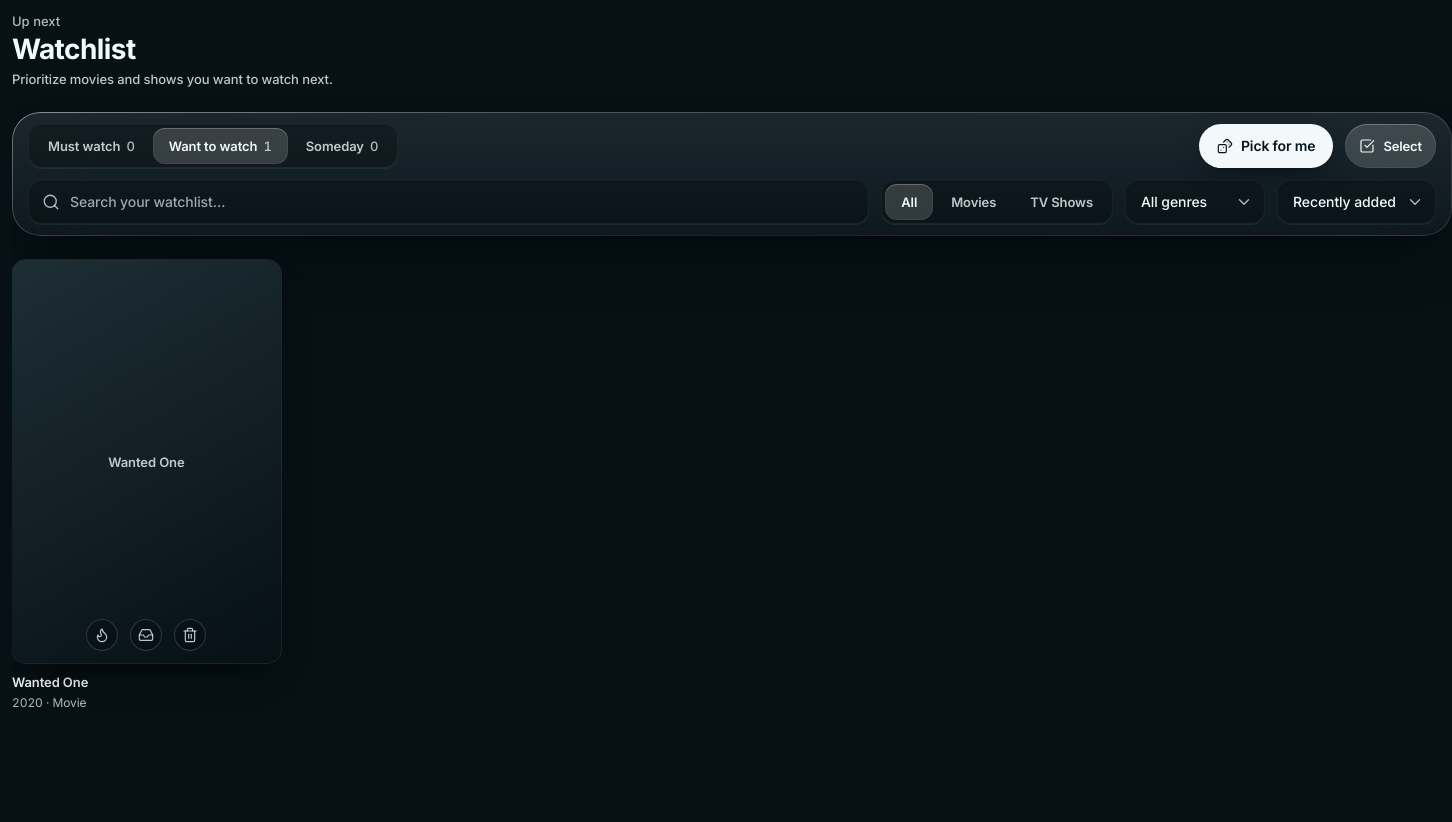
Test: watchlist grouped load (F-32) › keeps the compact per-bucket empty state when another bucket has rows
Click the radio button labelled "Must watch 0". click: [91, 146]
box: [32,128,151,164]
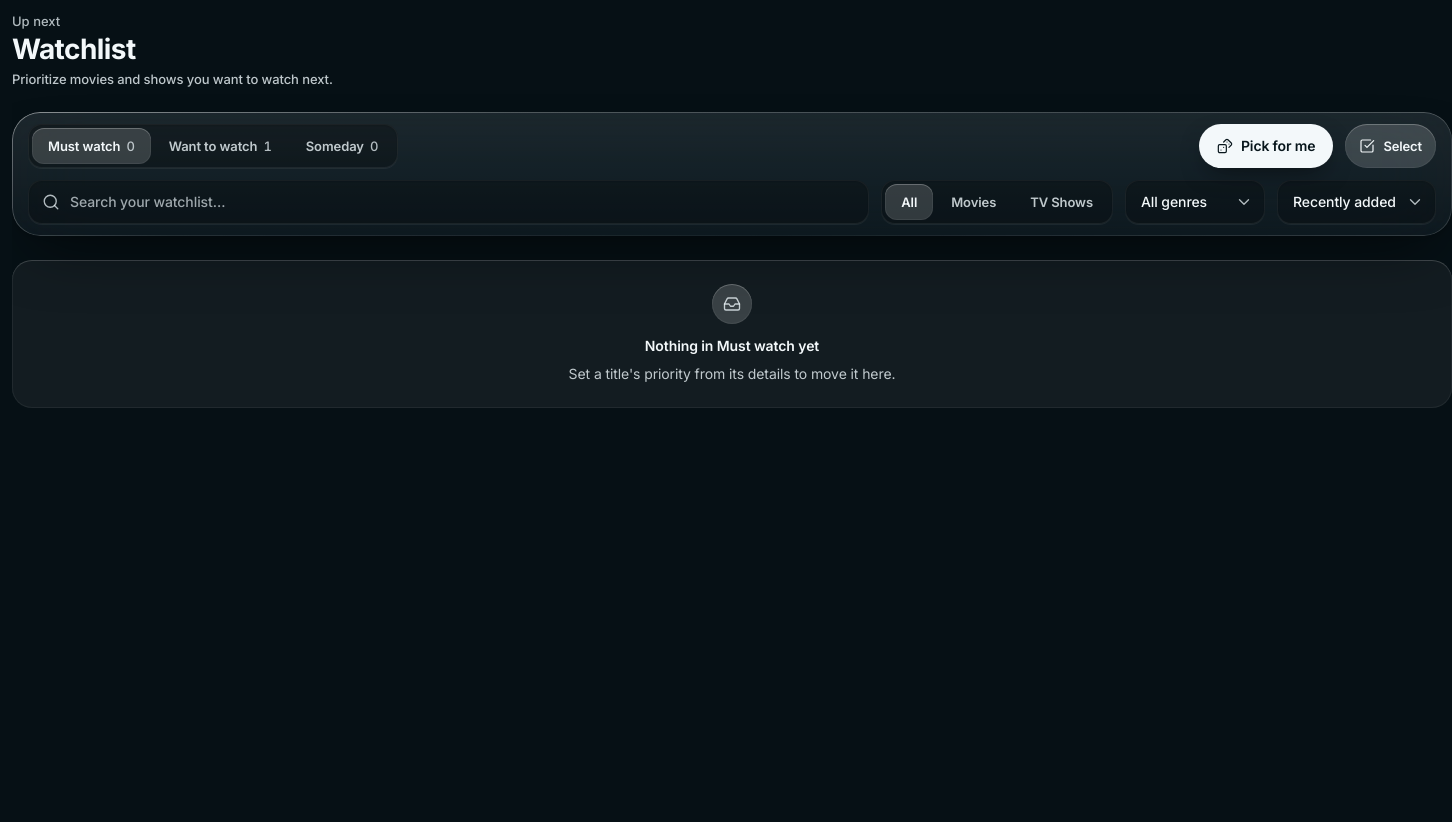
Expected: the text "Nothing in Must watch yet" is shown, [645,337,819,354]
